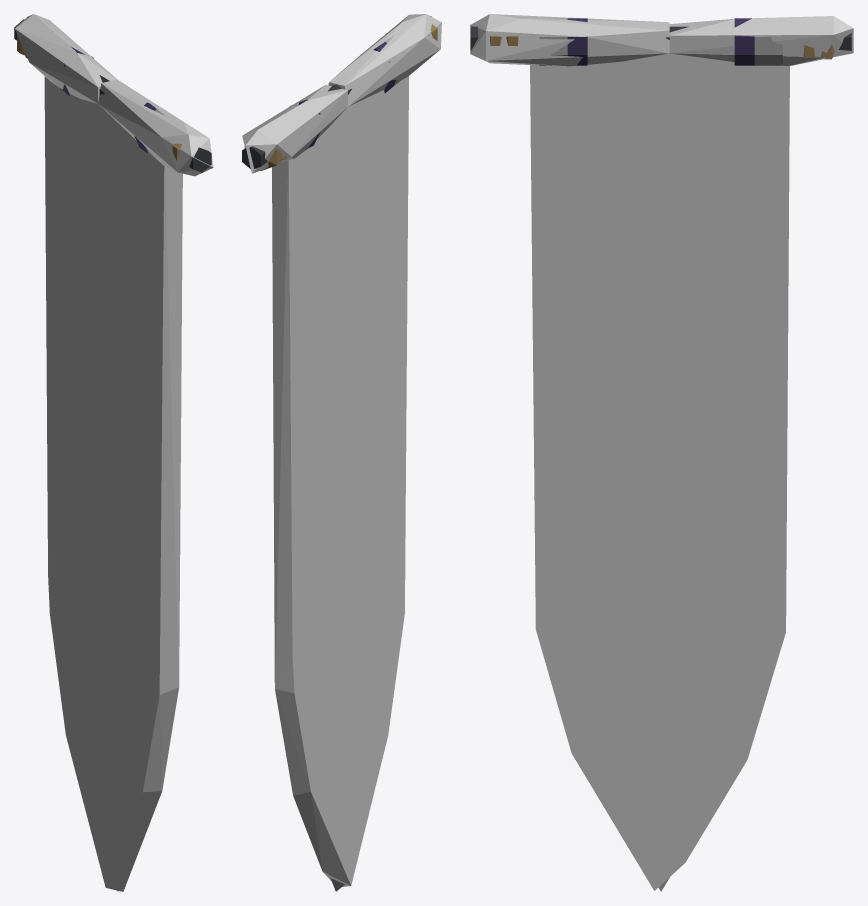
Rendered from SM_Prop_Flag_02.fbx.
3 views of the same model, side by side, from view 1: azimuth 30°, elevation 25°; view 2: azimuth 150°, elevation 25°; view 3: azimuth 270°, elevation 25° (orthographic). The views are drawn at different scales.
Parts seen in each view (by area): view 1: SM_Prop_Flag_02_ConvexHulls, SM_Prop_Flag_02; view 2: SM_Prop_Flag_02_ConvexHulls, SM_Prop_Flag_02; view 3: SM_Prop_Flag_02_ConvexHulls, SM_Prop_Flag_02.
Boxes of the visible parts, x1,y1,x2,y2 form: SM_Prop_Flag_02_ConvexHulls: (15, 14, 213, 891); SM_Prop_Flag_02: (14, 19, 211, 891); SM_Prop_Flag_02_ConvexHulls: (242, 14, 441, 886); SM_Prop_Flag_02: (242, 16, 437, 891); SM_Prop_Flag_02_ConvexHulls: (470, 14, 853, 890); SM_Prop_Flag_02: (470, 18, 851, 891).
Bounding box in the file's own units: 8.04 × 71.39 × 180.
Materials: 2 (1 with a texture image).
